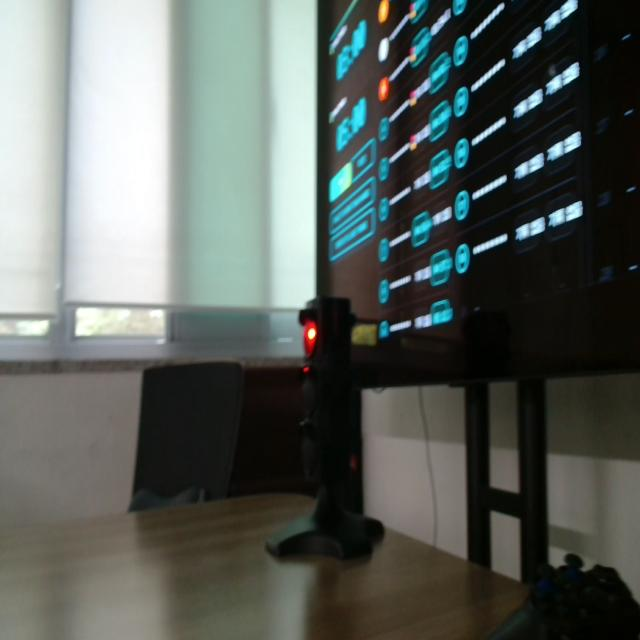red_light: (304, 321, 317, 357), (307, 327, 316, 340)
